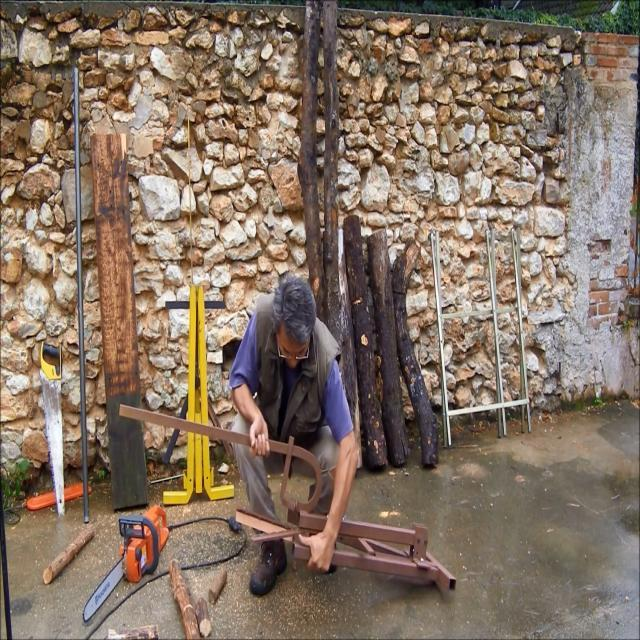Chainsaw: (82, 468, 178, 640)
